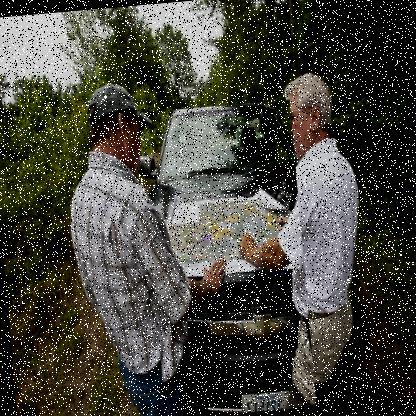Car: (138, 99, 318, 415)
